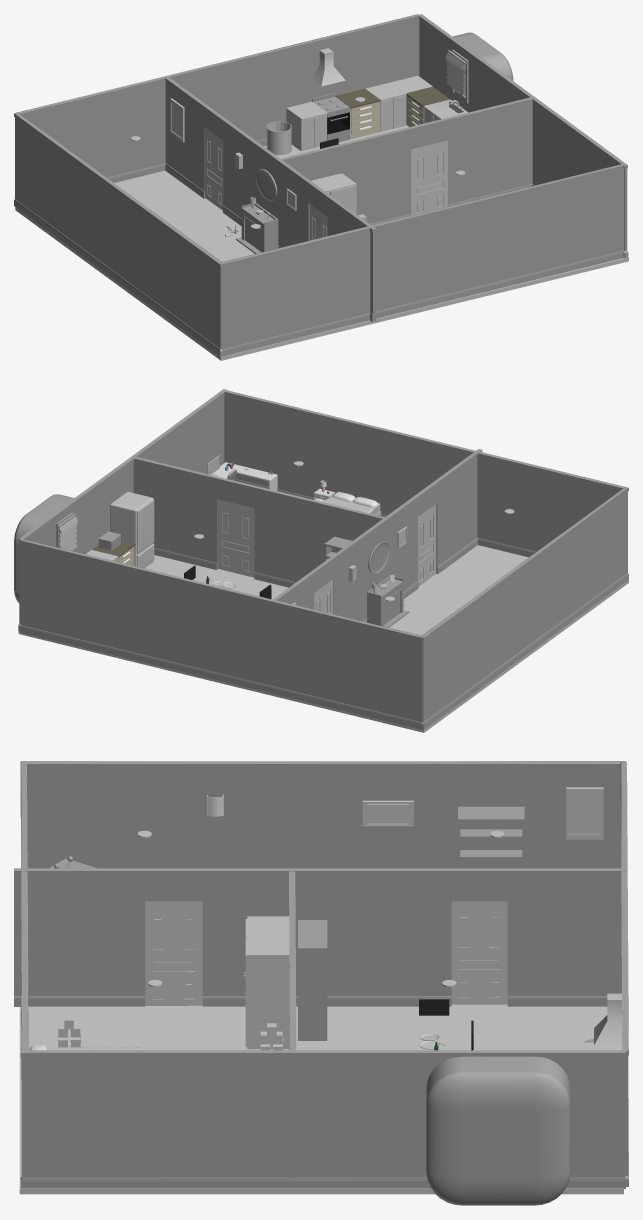
File: Map.fbx
3 renders of one model, top to bottom at view 1: azimuth 30°, elevation 25°; view 2: azimuth 150°, elevation 25°; view 3: azimuth 270°, elevation 25°, orthographic. The views are drawn at different scales.
Visible parts, largest first — view 1: Wall_A2, Wall_A, Wall_A5, Wall_A3, Wall, Wall_A4, FloorOBJ, DoorKitchen_OBJ, KitchenBenchCupboardBO_OBJ4, HallwayCupboardBO_OBJ, KitchenBenchDrawerBO_OBJ4, DoorBedRoom_OBJ1 (+12 smaller); view 2: Wall_A, Wall_A2, Wall_A5, Wall_A3, Wall, FloorOBJ, Wall_A4, DoorKitchen_OBJ, Fridge_OBJ, HallwayCupboardBO_OBJ, DoorBedRoom_OBJ, OutsideOBJ (+6 smaller); view 3: Wall_A4, Wall, Wall_A5, FloorOBJ, OutsideOBJ, DoorBedRoom_OBJ, DoorBedRoom_OBJ1, WardrobeBO_OBJ, BookshelfBO_OBJ1, BookshelfBO_OBJ, Wall_A, Wall_A2 (+5 smaller).
Boxes of the visible parts, box(x1,y1,x2,y2) form: Wall_A2: box(221, 164, 623, 356); Wall_A: box(15, 14, 419, 182); Wall_A5: box(14, 112, 222, 356); Wall_A3: box(281, 97, 532, 225); Wall: box(164, 76, 376, 322); Wall_A4: box(418, 14, 628, 258); FloorOBJ: box(15, 124, 628, 360); DoorKitchen_OBJ: box(411, 140, 448, 215); KitchenBenchCupboardBO_OBJ4: box(286, 101, 327, 151); HallwayCupboardBO_OBJ: box(236, 203, 278, 253); KitchenBenchDrawerBO_OBJ4: box(335, 88, 380, 139); DoorBedRoom_OBJ1: box(205, 128, 223, 210); Wall_A: box(20, 539, 424, 729); Wall_A2: box(224, 390, 626, 557); Wall_A5: box(420, 487, 628, 729); Wall_A3: box(133, 457, 384, 587); Wall: box(271, 449, 482, 622); FloorOBJ: box(18, 545, 628, 732); Wall_A4: box(18, 389, 226, 631); DoorKitchen_OBJ: box(217, 499, 254, 577); Fridge_OBJ: box(110, 491, 154, 568); HallwayCupboardBO_OBJ: box(367, 576, 409, 627); DoorBedRoom_OBJ: box(418, 504, 436, 586); OutsideOBJ: box(14, 494, 74, 603); Wall_A4: box(20, 1050, 625, 1188); Wall: box(14, 868, 626, 1006); Wall_A5: box(20, 761, 625, 868); FloorOBJ: box(19, 1004, 623, 1194); OutsideOBJ: box(426, 1056, 570, 1205); DoorBedRoom_OBJ: box(145, 901, 202, 1005); DoorBedRoom_OBJ1: box(451, 901, 507, 1004); WardrobeBO_OBJ: box(244, 916, 289, 1049); BookshelfBO_OBJ1: box(458, 806, 524, 868); BookshelfBO_OBJ: box(298, 920, 327, 1040); Wall_A: box(620, 762, 628, 1186); Wall_A2: box(20, 763, 28, 1078).
Size of the model in its own units: 1469 by 309 by 1221.
